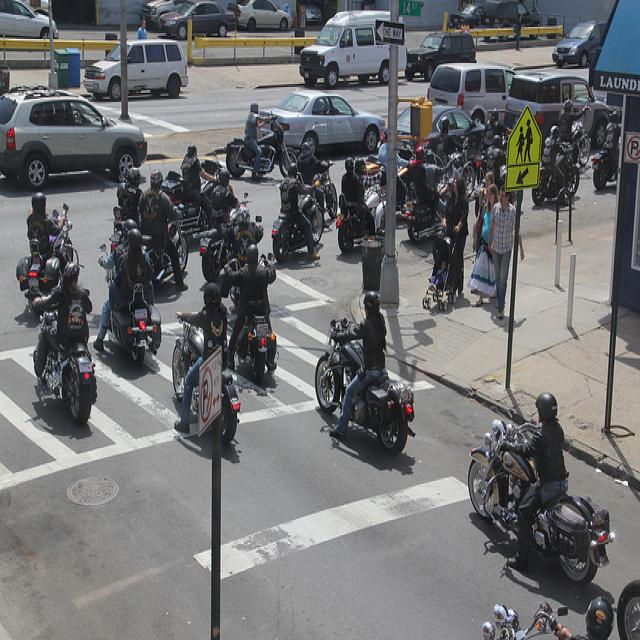motor: (175, 118, 477, 265), (466, 418, 617, 586), (316, 317, 417, 457), (162, 317, 248, 446), (99, 235, 162, 361), (16, 203, 86, 313), (34, 312, 98, 425), (227, 257, 275, 385), (198, 190, 254, 282), (145, 204, 188, 294), (272, 196, 325, 267), (528, 141, 582, 207), (483, 601, 559, 640), (616, 578, 640, 639)
